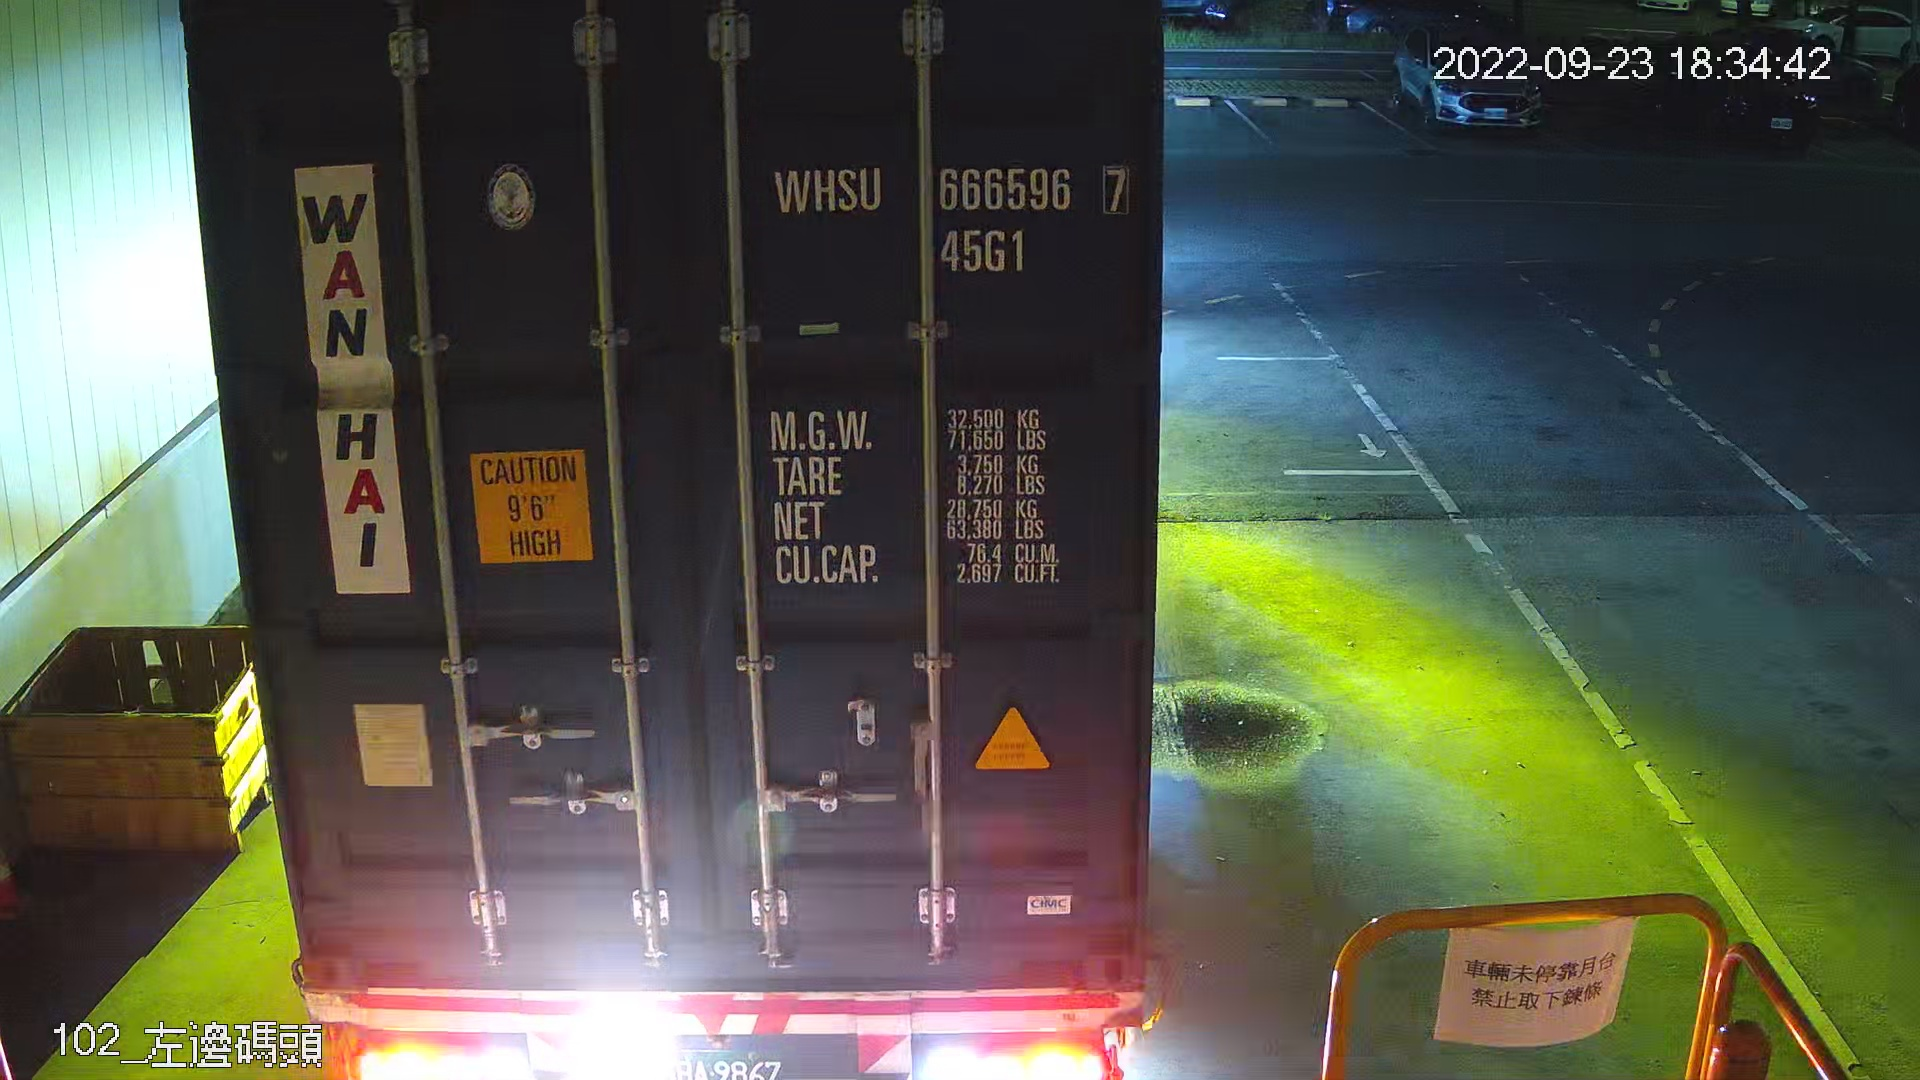container: (754, 141, 1145, 284)
